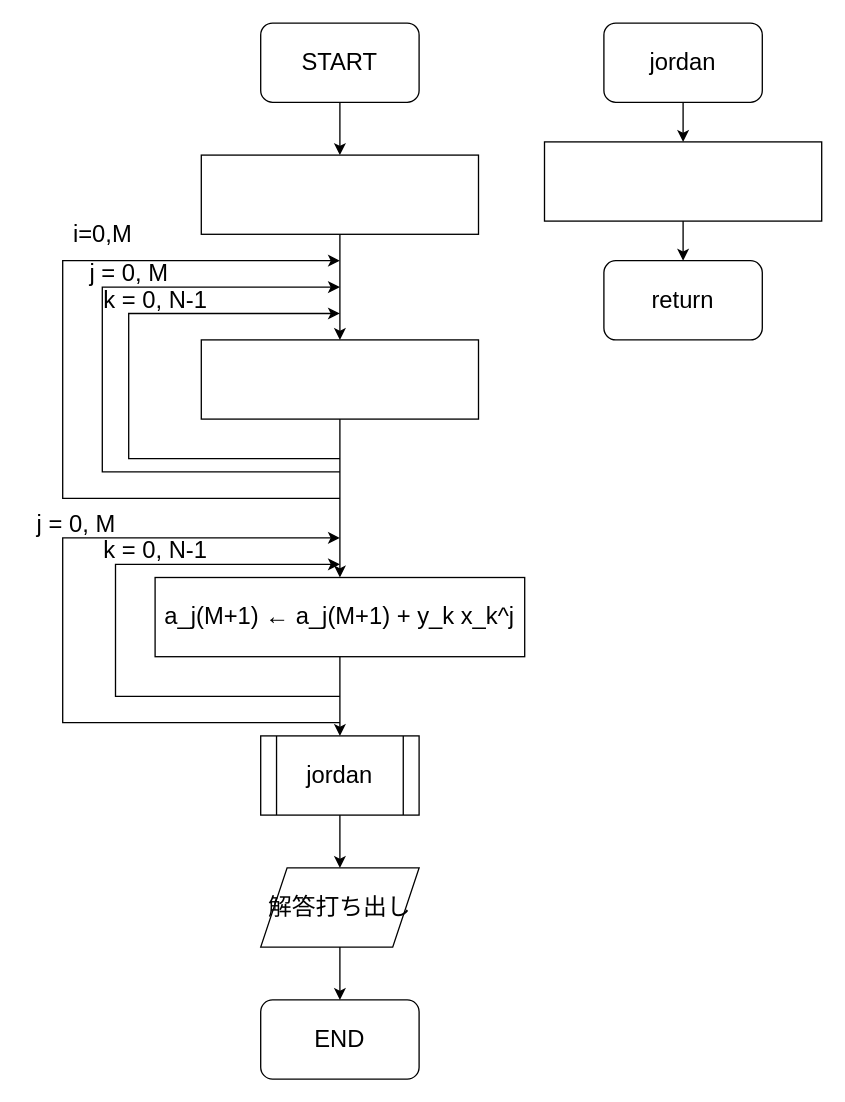
The diagram is 845 pixels wide and 1102 high, and some of its shapes have lost their labels. Here are the shapes that lost their labels. From the top down, the box of each, then its label:
(200, 154, 478, 234): 初期設定 (データ数: N) (回帰曲線の次数: M)
(543, 141, 822, 221): 多元連立1次方程式の解法
(200, 339, 478, 419): a_ji ← a_ji + x_k^i+j
